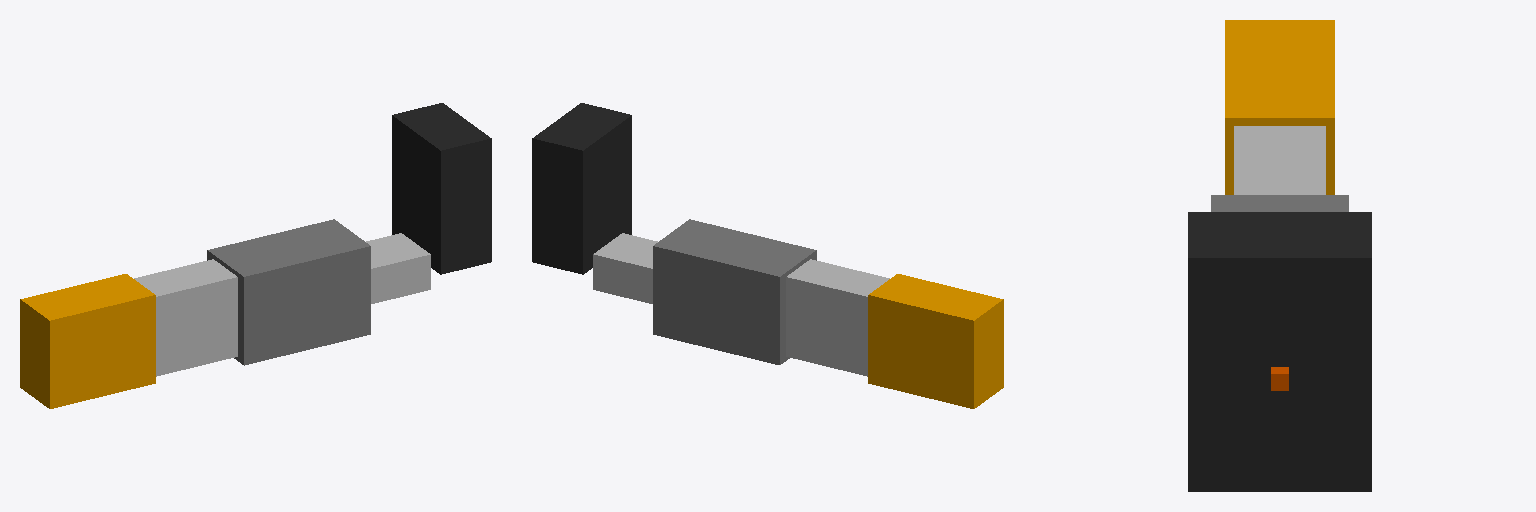
The robot description file, URDF, robot "g500_arm":
<?xml version="1.0" encoding="utf-8"?>
<!-- =================================================================================== -->
<!-- |    This document was autogenerated by xacro from g500_eca_pv.xacro              | -->
<!-- |    EDITING THIS FILE BY HAND IS NOT RECOMMENDED                                 | -->
<!-- =================================================================================== -->
<robot name="g500_arm" xmlns:xacro="http://www.ros.org/wiki/xacro">
  <!-- base link is the body of the robot -->
  <!--
  <link name="base_link">
    <visual>
      <origin rpy="0 0 0" xyz="0 0 0"/>
      <geometry>
          <sphere radius="0.03"/>
      </geometry>
    </visual>
  </link>

  <joint name="baselink_to_base" type="revolute">
    <parent link="base_link"/>
    <child link="base"/>
    <axis xyz="1 0 0"/>
    <origin rpy="0.045 0 0" xyz="0.25 0 0"/>
    <limit effort="30.0" lower="-3.14" upper="3.14" velocity="0.025"/>
  </joint> -->
  <!--
  <link name="base">
    <visual>
      <origin rpy="0 0 0" xyz="0.0 0 0.0"/>
      <geometry>
        <mesh filename="package://g500_arm_description/meshes/robot/ECA/arm0.3ds" scale="0.001 0.001 0.001"/>
      </geometry>
      <material name="Grey">
        <color rgba="0.5 0.5 0.5 1.0"/>
      </material>
    </visual>
    <collision>
      <origin rpy="0 0 0" xyz="-0.2 0 0.0"/>
      <geometry>
        <box size="0.25 0.12 0.2" />
      </geometry>
    </collision>
  </link> -->
  <link name="base_link">
    <visual>
      <origin rpy="0 0 0" xyz="0 0 0"/>
      <geometry>
        <box size="0.25 0.12 0.2"/>
      </geometry>
    </visual>
    <collision>
      <origin rpy="0 0 0" xyz="0 0 0.0"/>
      <geometry>
        <box size="0.25 0.12 0.2"/>
      </geometry>
    </collision>
    <inertial>
      <mass value="1"/>
      <inertia ixx="1.0" ixy="0.0" ixz="0.0" iyy="0.5" iyz="0.0" izz="1.0"/>
    </inertial>
  </link>
  <joint name="q1" type="revolute">
    <parent link="base_link"/>
    <child link="L0"/>
    <axis xyz="0 0 1"/>
    <origin rpy="0.0 0.0 0.0" xyz="0.125 0.0 0.0"/>
    <limit effort="300" lower="-0.43" upper="1.54" velocity="0.025"/>
  </joint>
  <transmission name="q1_joint_trans">
    <type>transmission_interface/SimpleTransmission</type>
    <joint name="q1">
      <hardwareInterface>PositionJointInterface</hardwareInterface>
    </joint>
    <actuator name="motor1">
      <hardwareInterface>PositionJointInterface</hardwareInterface>
      <mechanicalReduction>1</mechanicalReduction>
    </actuator>
  </transmission>
  <!-- 
  <link name="L0">
  	<visual>
      <origin xyz="0.0 0 0" rpy="0 0 0"/>
      <geometry>
        <mesh filename="package://g500_arm_description/meshes/robot/ECA/arm1.3ds" scale="0.001 0.001 0.001"/>
      </geometry>
      <material name="LightGrey">
        <color rgba="0.75 0.75 0.75 1.0"/>
      </material>
    </visual>
    <collision>
      <origin xyz="0.18 0 0" rpy="0 0 0"/>
		  <geometry>
				<box size="0.2 0.1 0.18" />
			</geometry>
		</collision>
   </link> -->
  <!-- JUST MAKING SURE EVERYTHING IS FINE -->
  <link name="L0">
    <visual>
      <origin rpy="0 0 0" xyz="0.1 0 0"/>
      <geometry>
        <box size="0.2 0.1 0.18"/>
      </geometry>
      <material name="LightGrey">
        <color rgba="0.75 0.75 0.75 1.0"/>
      </material>
    </visual>
    <collision>
      <origin rpy="0 0 0" xyz="0.1 0 0"/>
      <geometry>
        <box size="0.2 0.1 0.18"/>
      </geometry>
    </collision>
    <inertial>
      <mass value="1"/>
      <inertia ixx="1.0" ixy="0.0" ixz="0.0" iyy="0.5" iyz="0.0" izz="1.0"/>
    </inertial>
  </link>
  <joint name="q2" type="revolute">
    <parent link="L0"/>
    <child link="L1"/>
    <axis xyz="0 0 1"/>
    <origin rpy="-1.57 0.0 0.0" xyz="0.2 0.0 0.0"/>
    <limit effort="300" lower="-0.10" upper="1.45" velocity="0.025"/>
  </joint>
  <transmission name="q2_joint_trans">
    <type>transmission_interface/SimpleTransmission</type>
    <joint name="q2">
      <hardwareInterface>PositionJointInterface</hardwareInterface>
    </joint>
    <actuator name="motor2">
      <hardwareInterface>PositionJointInterface</hardwareInterface>
      <mechanicalReduction>1</mechanicalReduction>
    </actuator>
  </transmission>
   --&gt;

  <!--
   <link name="L1">
    <visual>
      <origin rpy="0 0 0" xyz="0.0 0.0 0.0"/>
      <geometry>
        <mesh filename="package://g500_arm_description/meshes/robot/ECA/arm2.3ds" scale="0.001 0.001 0.001"/>
      </geometry>
      <material name="Grey">
        <color rgba="0.5 0.5 0.5 1.0"/>
      </material>
    </visual>
    <collision>
      <origin rpy="0 0 0" xyz="0.2 0 0.0"/>
		<geometry>
      <box size="0.3 0.2 0.15" />
		</geometry>
	 </collision>
  </link> -->
  <!-- JUST MAKING SURE EVERYTHING IS FINE -->
  <link name="L1">
    <visual>
      <origin rpy="0 0 0" xyz="0.15 0.0 0.0"/>
      <geometry>
        <box size="0.3 0.2 0.15"/>
      </geometry>
      <material name="Grey">
        <color rgba="0.5 0.5 0.5 1.0"/>
      </material>
    </visual>
    <collision>
      <origin rpy="0 0 0" xyz="0.15 0 0.0"/>
      <geometry>
        <box size="0.3 0.2 0.15"/>
      </geometry>
    </collision>
    <inertial>
      <mass value="1"/>
      <inertia ixx="1.0" ixy="0.0" ixz="0.0" iyy="0.5" iyz="0.0" izz="1.0"/>
    </inertial>
  </link>
  <joint name="q3" type="revolute">
    <parent link="L1"/>
    <child link="L2"/>
    <axis xyz="0 0 1"/>
    <origin rpy="0.0 0 0" xyz="0.3 0.0 0.0"/>
    <limit effort="300" lower="-1.22" upper="0.645" velocity="0.09"/>
  </joint>
  <transmission name="q3_joint_trans">
    <type>transmission_interface/SimpleTransmission</type>
    <joint name="q3">
      <hardwareInterface>PositionJointInterface</hardwareInterface>
    </joint>
    <actuator name="motor3">
      <hardwareInterface>PositionJointInterface</hardwareInterface>
      <mechanicalReduction>1</mechanicalReduction>
    </actuator>
  </transmission>
  <!--
  <link name="L2">
    <visual>
      <origin rpy="0 0 0" xyz="0.0 0.0 0.0"/>
        <geometry>
          <mesh filename="package://g500_arm_description/meshes/robot/ECA/arm3.3ds" scale="0.001 0.001 0.001"/>
        </geometry>
        <material name="LightGrey">
          <color rgba="0.75 0.75 0.75 1.0"/>
        </material>
    </visual>
    <collision>
      <origin rpy="0 0 0" xyz="0.0 0.0 0.0"/>
      <geometry>
        <box size="0.15 0.08 0.12" />
      </geometry>
    </collision>
  </link> -->
  <!-- JUST MAKING SURE EVERYTHING IS FINE -->
  <link name="L2">
    <visual>
      <origin rpy="0 0 0" xyz="0.075 0.0 0.0"/>
      <geometry>
        <box size="0.15 0.08 0.12"/>
      </geometry>
      <material name="LightGrey">
        <color rgba="0.75 0.75 0.75 1.0"/>
      </material>
    </visual>
    <collision>
      <origin rpy="0 0 0" xyz="0.075 0.0 0.0"/>
      <geometry>
        <box size="0.15 0.08 0.12"/>
      </geometry>
    </collision>
    <inertial>
      <mass value="1"/>
      <inertia ixx="1.0" ixy="0.0" ixz="0.0" iyy="0.5" iyz="0.0" izz="1.0"/>
    </inertial>
  </link>
  <joint name="q4" type="revolute">
    <parent link="L2"/>
    <child link="L3"/>
    <axis xyz="0 0 1"/>
    <origin rpy="1.57 0 0" xyz="0.15 0.0 0.0"/>
    <limit effort="300" lower="-3.12" upper="3.12" velocity="0.09"/>
  </joint>
  <transmission name="q4_joint_trans">
    <type>transmission_interface/SimpleTransmission</type>
    <joint name="q4">
      <hardwareInterface>PositionJointInterface</hardwareInterface>
    </joint>
    <actuator name="motor4">
      <hardwareInterface>PositionJointInterface</hardwareInterface>
      <mechanicalReduction>1</mechanicalReduction>
    </actuator>
  </transmission>
   --&gt;


  <!--
  <link name="L3">
    <visual>
      <origin rpy="0 0 0" xyz="0.0 0.0 0.0"/>
      <geometry>
        <mesh filename="package://g500_arm_description/meshes/robot/ECA/arm4.3ds" scale="0.001 0.001 0.001"/>
      </geometry>
      <material name="LightBlack">
        <color rgba="0.2 0.2 0.2 1.0"/>
      </material>
    </visual>
    <collision>
      <origin rpy="0 0 0" xyz="0 0 0.15"/>
      <geometry>
        <box size="0.12 0.2 0.28" />
      </geometry>
    </collision>
  </link> -->
  <link name="L3">
    <visual>
      <origin rpy="0 0 0" xyz="0.06 0.0 0.15"/>
      <geometry>
        <box size="0.12 0.2 0.28"/>
      </geometry>
      <material name="LightBlack">
        <color rgba="0.2 0.2 0.2 1.0"/>
      </material>
    </visual>
    <collision>
      <origin rpy="0 0 0" xyz="0.06 0 0.15"/>
      <geometry>
        <box size="0.12 0.2 0.28"/>
      </geometry>
    </collision>
    <inertial>
      <mass value="1"/>
      <inertia ixx="1.0" ixy="0.0" ixz="0.0" iyy="0.5" iyz="0.0" izz="1.0"/>
    </inertial>
  </link>
  <link name="grasping_frame">
    <inertial>
      <origin rpy="0 0 0" xyz="0 0 0"/>
      <mass value="0.0001"/>
      <cuboid_inertia mass="0.0001" x="0.001" y="0.001" z="0.001"/>
      <inertia ixx="1.0" ixy="0.0" ixz="0.0" iyy="100.0" iyz="0.0" izz="1.0"/>
    </inertial>
    <visual>
      <origin xyz="0 0 0"/>
      <geometry>
        <box size="0.02 0.02 0.02"/>
      </geometry>
      <material name="White"/>
    </visual>
  </link>
  <joint name="grasping_frame_joint" type="fixed">
    <parent link="L2"/>
    <child link="grasping_frame"/>
    <origin rpy="0 0 0" xyz="0.28 -0.15 0"/>
  </joint>
  <!-- frames in the center of the camera -->
  <joint name="rgbd_camera_joint" type="fixed">
    <origin rpy="0 1.308996939 0" xyz="0.1 0 1"/>
    <parent link="base_link"/>
    <child link="rgbd_camera_link"/>
  </joint>
  <link name="rgbd_camera_link">
    <inertial>
      <origin rpy="0 0 0" xyz="-0.00936000000 -0.00003000000 -0.00273000000"/>
      <mass value="0.21970000000"/>
      <inertia ixx="0.00000429247" ixy="0.00000000000" ixz="0.00000002565" iyy="0.00000008027" iyz="0.00000000000" izz="0.00000427339"/>
    </inertial>
    <visual>
      <origin rpy="0 0 0" xyz="0 0 0"/>
      <geometry>
        <mesh filename="package://mastering_ros_robot_description_pkg/meshes/sensors/xtion_pro_live/xtion_pro_live.dae"/>
      </geometry>
      <material name="DarkGrey"/>
    </visual>
  </link>
  <joint name="rgbd_camera_optical_joint" type="fixed">
    <origin rpy="-1.57079632679 0 -1.57079632679" xyz="0 0 0"/>
    <parent link="rgbd_camera_link"/>
    <child link="rgbd_camera_optical_frame"/>
  </joint>
  <link name="rgbd_camera_optical_frame">
    <inertial>
      <origin rpy="0 0 0" xyz="0 0 0"/>
      <mass value="0.001"/>
      <inertia ixx="0.00001" ixy="0" ixz="0" iyy="0.00001" iyz="0" izz="0.00001"/>
    </inertial>
  </link>
  <!-- Depth sensor frames -->
  <joint name="rgbd_camera_depth_joint" type="fixed">
    <origin rpy="0 0 0" xyz="0.0 0.049 0.0"/>
    <parent link="rgbd_camera_link"/>
    <child link="rgbd_camera_depth_frame"/>
  </joint>
  <link name="rgbd_camera_depth_frame">
    <inertial>
      <origin rpy="0 0 0" xyz="0 0 0"/>
      <mass value="0.001"/>
      <inertia ixx="0.00001" ixy="0" ixz="0" iyy="0.00001" iyz="0" izz="0.00001"/>
    </inertial>
  </link>
  <joint name="rgbd_camera_depth_optical_joint" type="fixed">
    <origin rpy="-1.57079632679 0.0 -1.57079632679" xyz="0 0 0"/>
    <parent link="rgbd_camera_depth_frame"/>
    <child link="rgbd_camera_depth_optical_frame"/>
  </joint>
  <link name="rgbd_camera_depth_optical_frame">
    <inertial>
      <origin rpy="0 0 0" xyz="0 0 0"/>
      <mass value="0.001"/>
      <inertia ixx="0.00001" ixy="0" ixz="0" iyy="0.00001" iyz="0" izz="0.00001"/>
    </inertial>
  </link>
  <!-- RGB sensor frames -->
  <joint name="rgbd_camera_rgb_joint" type="fixed">
    <origin rpy="0 0 0" xyz="0.0 0.022 0.0"/>
    <parent link="rgbd_camera_link"/>
    <child link="rgbd_camera_rgb_frame"/>
  </joint>
  <link name="rgbd_camera_rgb_frame">
    <inertial>
      <origin rpy="0 0 0" xyz="0 0 0"/>
      <mass value="0.001"/>
      <inertia ixx="0.00001" ixy="0" ixz="0" iyy="0.00001" iyz="0" izz="0.00001"/>
    </inertial>
  </link>
  <joint name="rgbd_camera_rgb_optical_joint" type="fixed">
    <origin rpy="-1.57079632679 0.0 -1.57079632679" xyz="0 0 0"/>
    <parent link="rgbd_camera_rgb_frame"/>
    <child link="rgbd_camera_rgb_optical_frame"/>
  </joint>
  <link name="rgbd_camera_rgb_optical_frame">
    <inertial>
      <origin rpy="0 0 0" xyz="0 0 0"/>
      <mass value="0.001"/>
      <inertia ixx="0.00001" ixy="0" ixz="0" iyy="0.00001" iyz="0" izz="0.00001"/>
    </inertial>
  </link>
  <gazebo reference="rgbd_camera_link">
    <!-- Depth (IR) -->
    <sensor name="rgbd_camera_frame_sensor" type="depth">
      <always_on>true</always_on>
      <update_rate>6.0</update_rate>
      <camera>
        <horizontal_fov>1.01229096616</horizontal_fov>
        <image>
          <format>R8G8B8</format>
          <width>320</width>
          <height>240</height>
        </image>
        <clip>
          <near>0.05</near>
          <far>4.0</far>
        </clip>
      </camera>
      <plugin filename="libgazebo_ros_openni_kinect.so" name="rgbd_camera_frame_controller">
        <alwaysOn>true</alwaysOn>
        <updateRate>6.0</updateRate>
        <cameraName>rgbd_camera</cameraName>
        <imageTopicName>ir/image_raw</imageTopicName>
        <cameraInfoTopicName>ir/camera_info</cameraInfoTopicName>
        <depthImageTopicName>depth/image_raw</depthImageTopicName>
        <depthImageCameraInfoTopicName>depth/camera_info</depthImageCameraInfoTopicName>
        <pointCloudTopicName>depth/points</pointCloudTopicName>
        <frameName>rgbd_camera_optical_frame</frameName>
        <pointCloudCutoff>0.05</pointCloudCutoff>
        <pointCloudCutoffMax>5</pointCloudCutoffMax>
        <rangeMax>4.0</rangeMax>
        <!-- Distortion parameters not supported in gazebo 1.9.* plugins -->
        <!--distortionK1>0.00000001</distortionK1>
          <distortionK2>0.00000001</distortionK2>
          <distortionK3>0.00000001</distortionK3>
          <distortionT1>0.00000001</distortionT1>
          <distortionT2>0.00000001</distortionT2-->
      </plugin>
    </sensor>
    <!-- RGB -->
    <sensor name="rgbd_camera_frame_sensor" type="depth">
      <always_on>true</always_on>
      <update_rate>6.0</update_rate>
      <camera>
        <horizontal_fov>1.01229096616</horizontal_fov>
        <image>
          <format>R8G8B8</format>
          <width>320</width>
          <height>240</height>
        </image>
        <clip>
          <near>0.05</near>
          <far>4.0</far>
        </clip>
      </camera>
      <plugin filename="libgazebo_ros_openni_kinect.so" name="rgbd_camera_frame_controller">
        <alwaysOn>true</alwaysOn>
        <updateRate>6.0</updateRate>
        <cameraName>rgbd_camera</cameraName>
        <imageTopicName>rgb/image_raw</imageTopicName>
        <cameraInfoTopicName>rgb/camera_info</cameraInfoTopicName>
        <pointCloudTopicName>rgb/points</pointCloudTopicName>
        <depthImageTopicName>depth/image_raw</depthImageTopicName>
        <depthImageCameraInfoTopicName>depth/camera_info</depthImageCameraInfoTopicName>
        <frameName>rgbd_camera_optical_frame</frameName>
        <pointCloudCutoff>0.05</pointCloudCutoff>
        <pointCloudCutoffMax>5</pointCloudCutoffMax>
        <rangeMax>4.0</rangeMax>
      </plugin>
    </sensor>
  </gazebo>
  <gazebo plugin="libgazebo_ros_control.so" reference="gazebo_ros_control">
    <robotNameSpace>/g500_arm</robotNameSpace>
  </gazebo>
  <!--
  <joint name="jaw" type="revolute">
    <parent link="L3"/>
    <child link="L4"/>
    <axis xyz="0 1 0"/>
    <origin rpy="0 0 0" xyz="0.0 0.0 0.328"/>
    <limit effort="30.0" lower="-3.14" upper="3.14" velocity="0.025"/>
  </joint>

  <link name="L4">
    <visual>
      <origin rpy="0 0 0" xyz="0 0 0"/>
      <geometry>
          <sphere radius="0.03"/>
      </geometry>
    </visual>
  </link> -->
</robot>

--- Facts derived from the render (not from the file) ---
Views: 3 orthographic renders of the robot side by side, from view 1: azimuth 30°, elevation 25°; view 2: azimuth 150°, elevation 25°; view 3: azimuth 270°, elevation 25°.
Model g500_arm with 12 links and 11 joints (4 revolute, 7 fixed), rooted at base_link, posed every joint at zero.
Links seen in each view (by area): view 1: L1, base_link, L3, L0, L2; view 2: L1, base_link, L3, L0, L2; view 3: L3, base_link, L0, L1.
Boxes of the visible links, x1=… form: L1: x1=207, y1=219, x2=370, y2=365; base_link: x1=20, y1=274, x2=155, y2=408; L3: x1=392, y1=103, x2=491, y2=274; L0: x1=134, y1=259, x2=237, y2=376; L2: x1=366, y1=233, x2=430, y2=303; L1: x1=653, y1=219, x2=816, y2=364; base_link: x1=868, y1=274, x2=1003, y2=408; L3: x1=532, y1=103, x2=631, y2=274; L0: x1=786, y1=259, x2=889, y2=376; L2: x1=593, y1=233, x2=657, y2=303; L3: x1=1188, y1=212, x2=1371, y2=491; base_link: x1=1225, y1=20, x2=1334, y2=194; L0: x1=1234, y1=126, x2=1325, y2=194; L1: x1=1211, y1=195, x2=1348, y2=211.
Bounding box of the posed robot: 1.04 × 0.2 × 0.3901 m (x, y, z).
Meshes: 1 distinct files referenced, 0 mesh visuals loaded (none loaded); not drawn: 1 (reference not matched to a file when rendering).